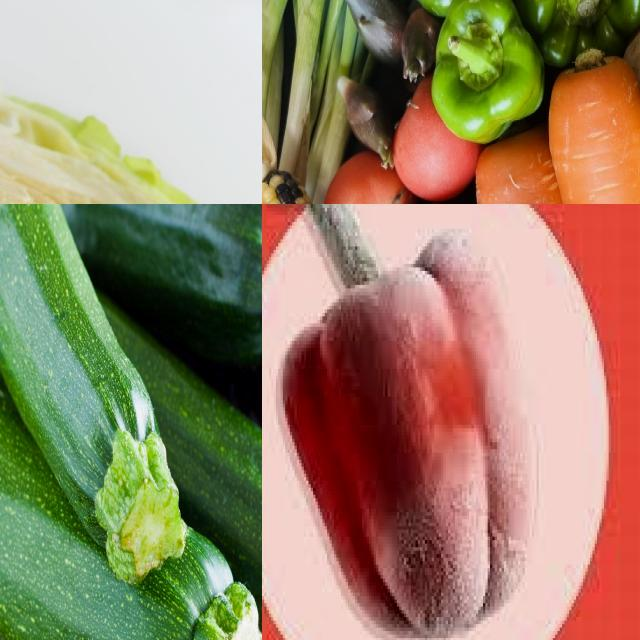bell_pepper: (263, 205, 559, 640)
cabbage: (1, 31, 263, 205)
carrot: (547, 53, 640, 205)
zucchini: (1, 298, 263, 640), (25, 301, 263, 640), (1, 205, 189, 585), (49, 205, 263, 366)
